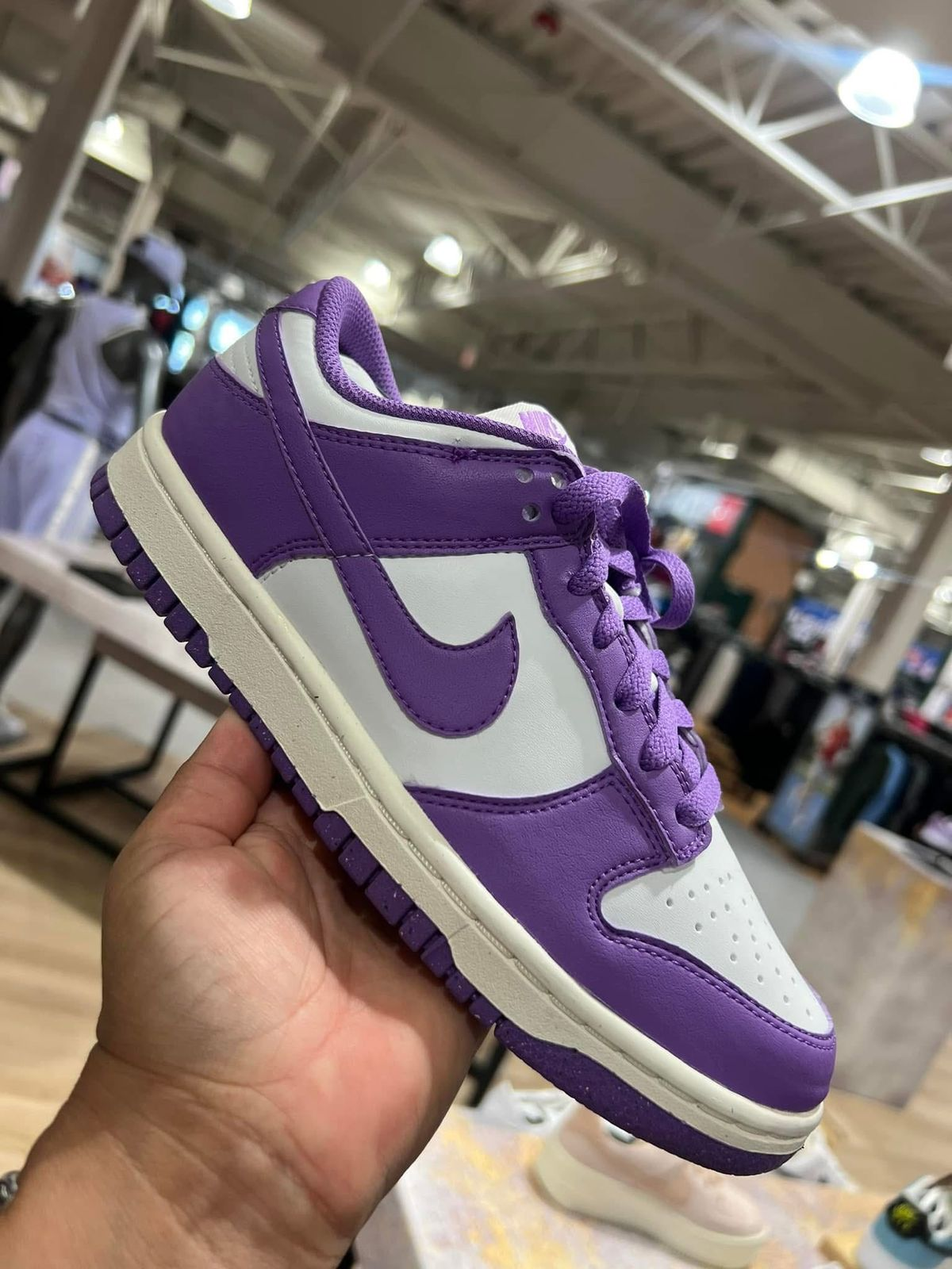nike_dunk_low_purple_court: (83, 270, 841, 1175)
